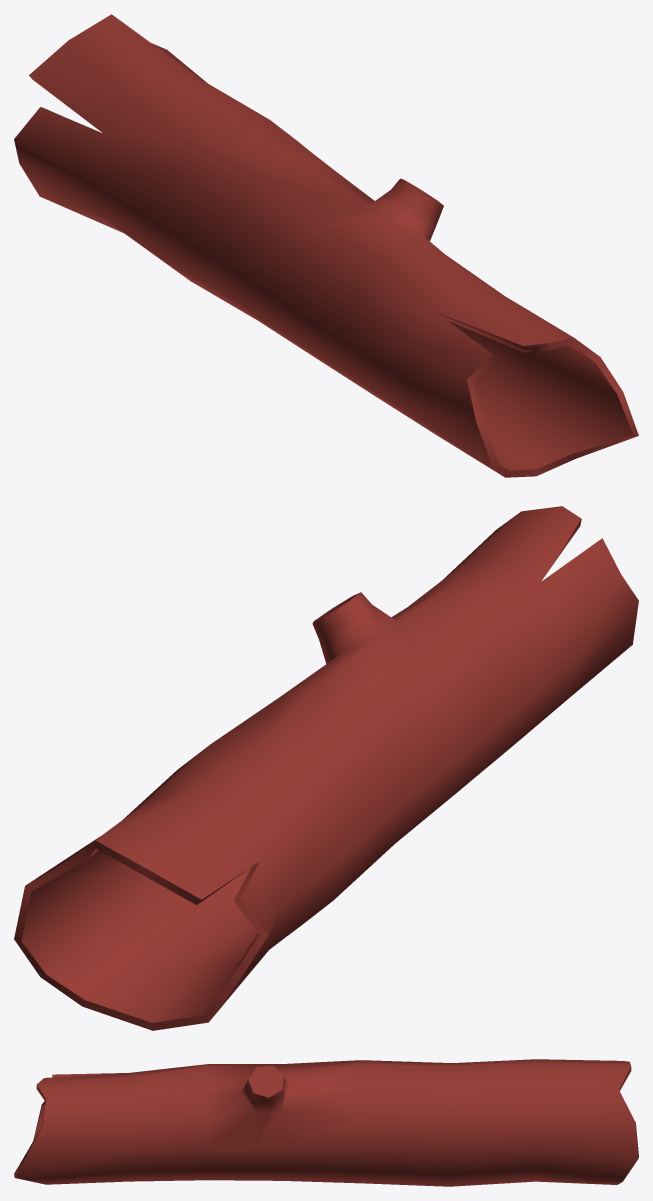
Rendered from Log.fbx.
3 renders of one model, top to bottom at view 1: azimuth 30°, elevation 25°; view 2: azimuth 150°, elevation 25°; view 3: azimuth 270°, elevation 25°, orthographic. The views are drawn at different scales.
Visible parts, largest first — view 1: Cylinder.002; view 2: Cylinder.002; view 3: Cylinder.002.
Part boxes in pixels (x1=…): Cylinder.002: x1=14, y1=14, x2=638, y2=477; Cylinder.002: x1=14, y1=506, x2=638, y2=1030; Cylinder.002: x1=14, y1=1059, x2=638, y2=1186.
Size of the model in its own units: 3.1 by 11.45 by 2.62.
